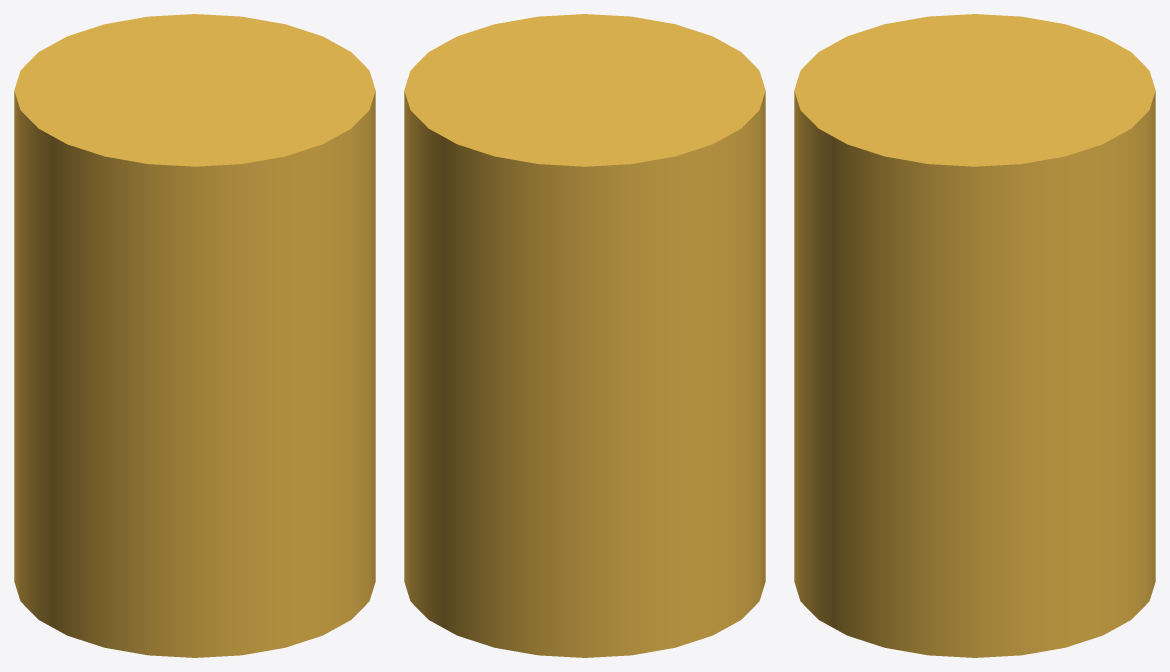
File: golden-cylinder.glb
The picture shows the model from 3 angles, left to right: view 1: azimuth 30°, elevation 25°; view 2: azimuth 150°, elevation 25°; view 3: azimuth 270°, elevation 25°; orthographic projection.
Parts seen in each view (by area): view 1: Golden Cylinder; view 2: Golden Cylinder; view 3: Golden Cylinder.
Boxes of the visible parts, x1,y1,x2,y2 form: Golden Cylinder: (14,14,375,657); Golden Cylinder: (404,14,765,657); Golden Cylinder: (794,14,1155,657).
Bounding box in the file's own units: 0.8 × 1.2 × 0.8.
